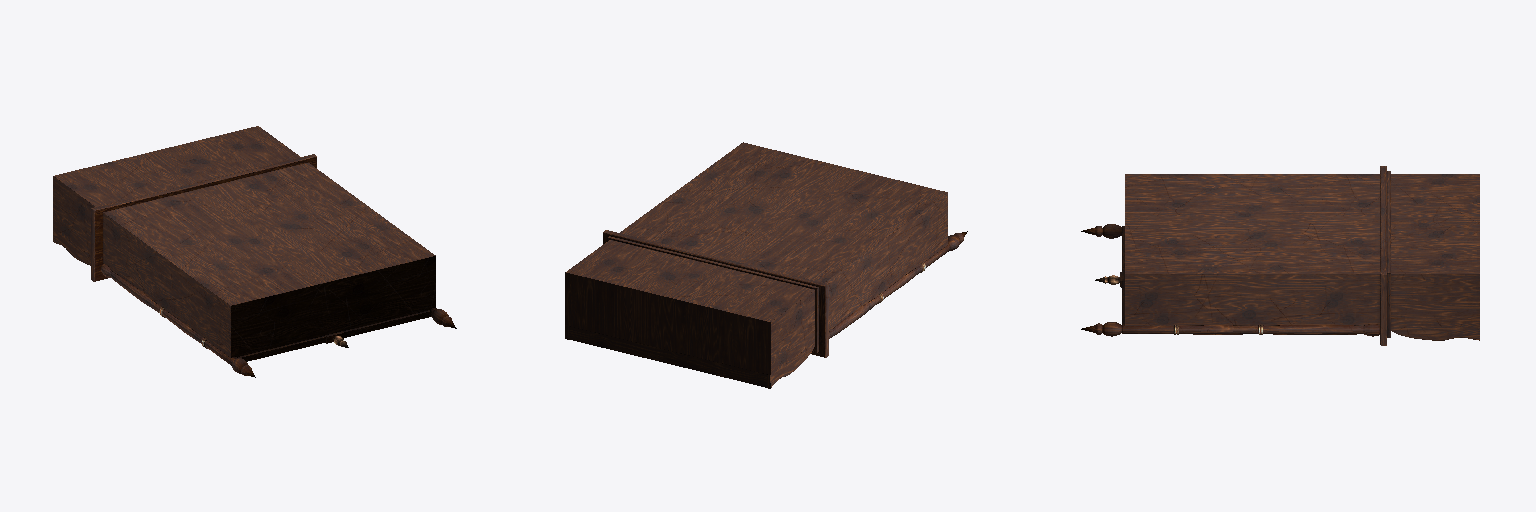
3 views of the same model, side by side, from view 1: azimuth 30°, elevation 25°; view 2: azimuth 150°, elevation 25°; view 3: azimuth 270°, elevation 25° (orthographic).
Parts seen in each view (by area): view 1: Shkaf2_Shkaf2_mtl_0; view 2: Shkaf2_Shkaf2_mtl_0; view 3: Shkaf2_Shkaf2_mtl_0.
Boxes of the visible parts, <box> form: Shkaf2_Shkaf2_mtl_0: <box>53,126,456,377</box>; Shkaf2_Shkaf2_mtl_0: <box>565,142,967,388</box>; Shkaf2_Shkaf2_mtl_0: <box>1081,166,1479,345</box>.
Size of the model in its own units: 257 by 79.03 by 399.
2 materials, 2 textured.